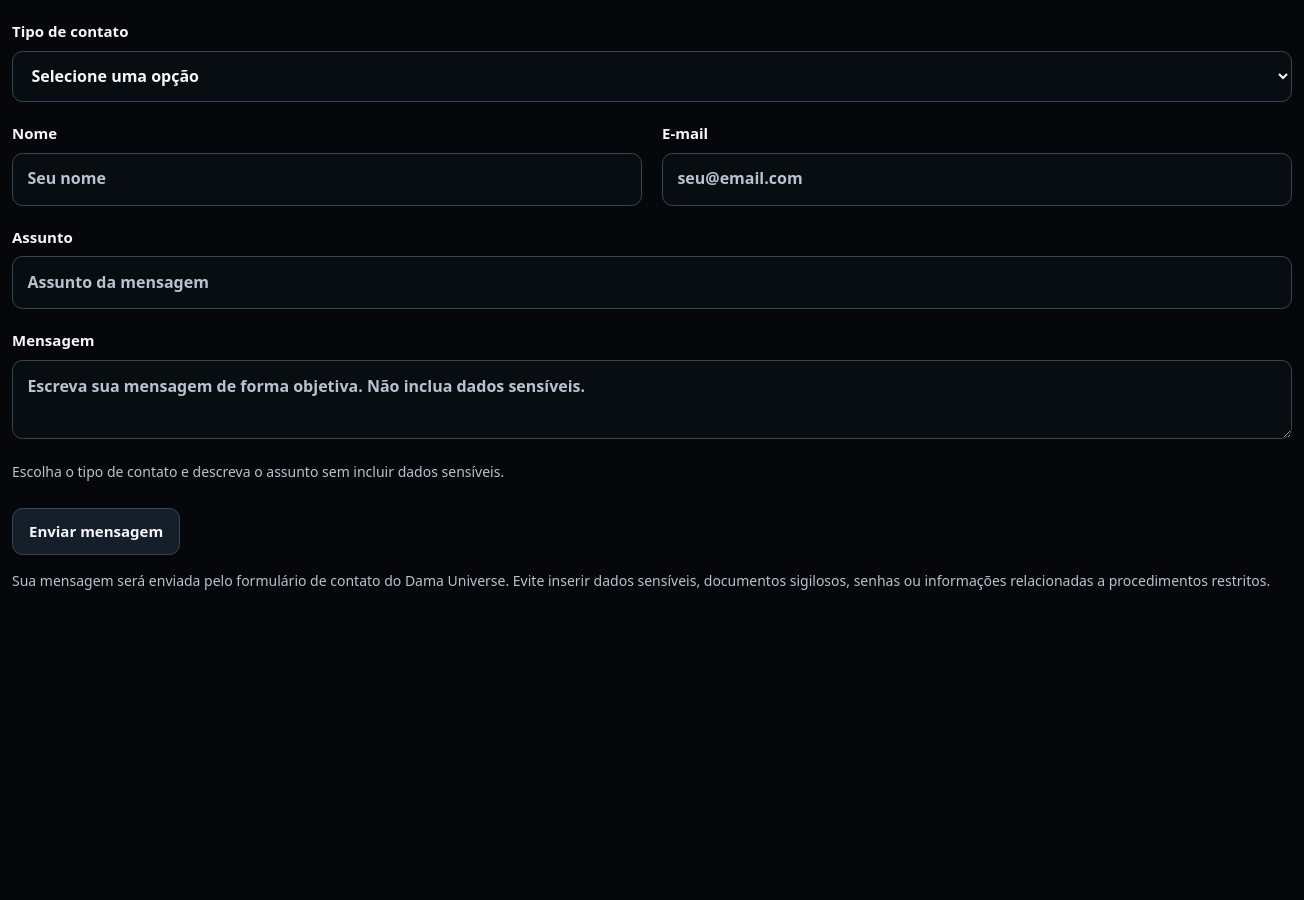
Test case: acessibilidade e falhas do formulário › trata rede, permite nova tentativa e anuncia envio
The width and height of the screenshot is (1304, 900).
Type "Pessoa de teste" into the field labelled "Nome" at [327, 179], box [12, 153, 642, 206]
Type "teste@example.com" into the field labelled "E-mail" at [977, 179], box [662, 153, 1292, 206]
Type "Assunto teste" into the field labelled "Assunto" at [652, 283], box [12, 256, 1292, 310]
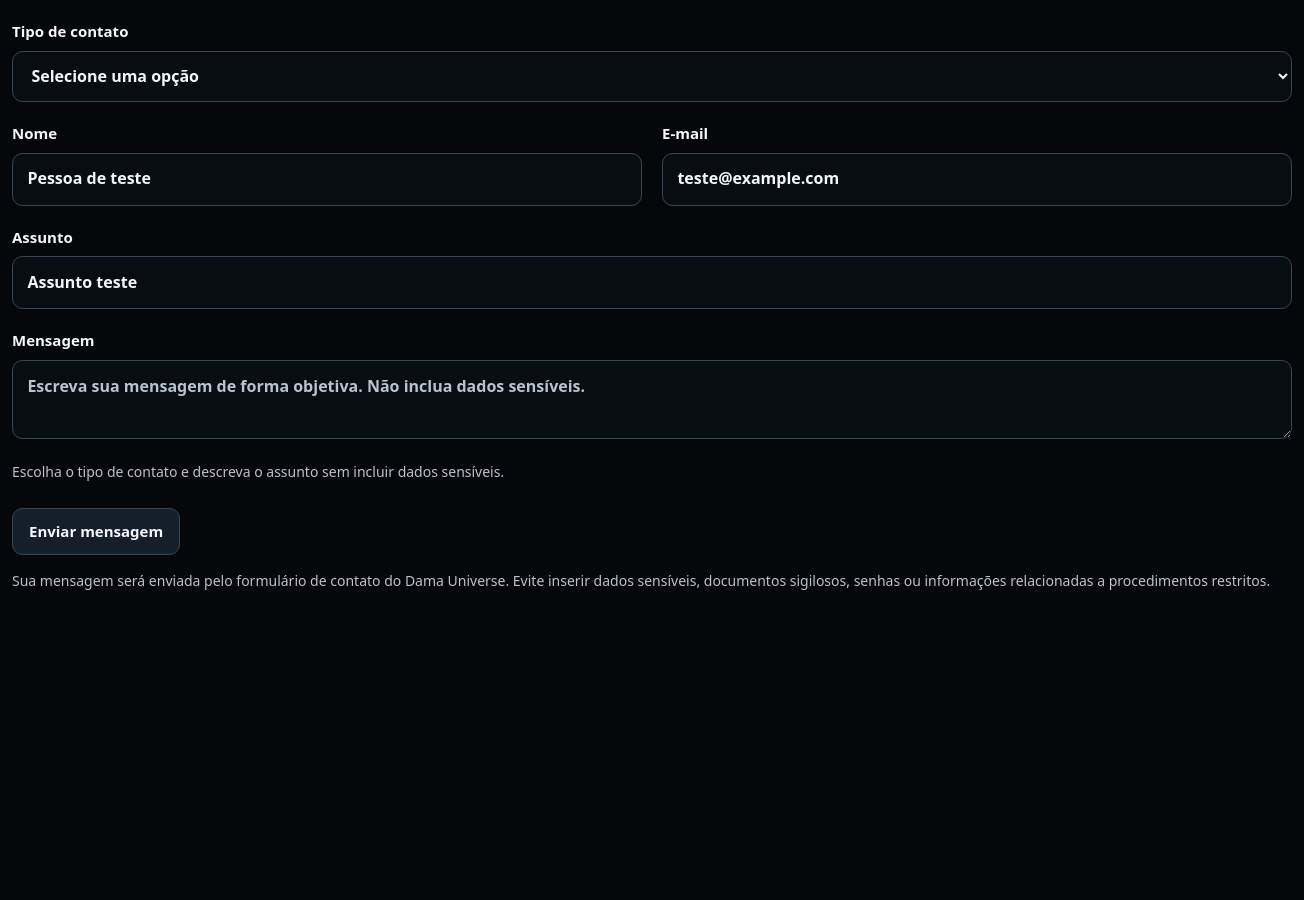
Select "Dúvida" in the dropdown labelled "Tipo de contato" at [652, 76], box [12, 50, 1292, 102]
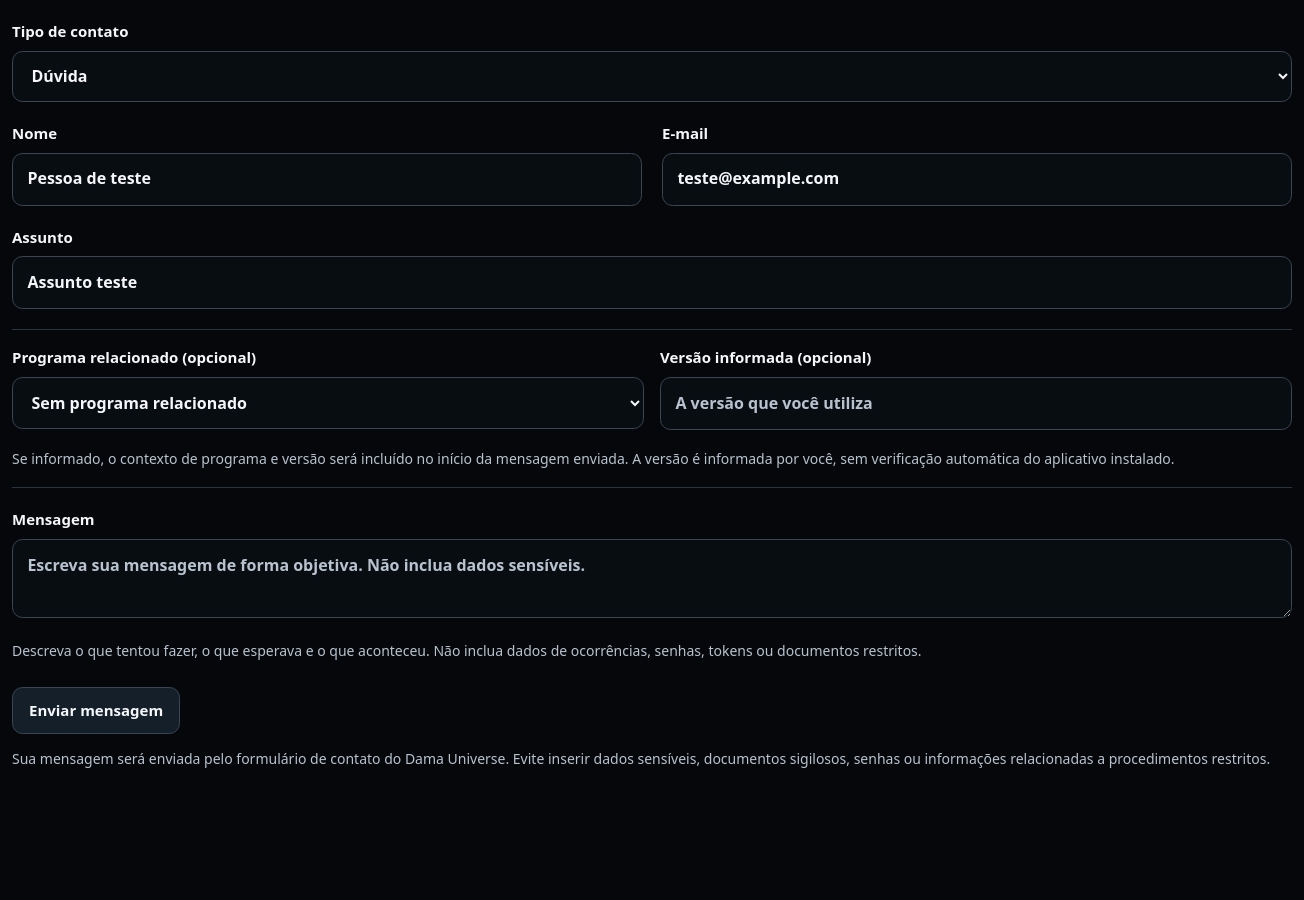
Replace the text in the text box labelled "Mensagem" with "Mensagem fictícia para teste local." at [652, 578], box [12, 539, 1292, 618]
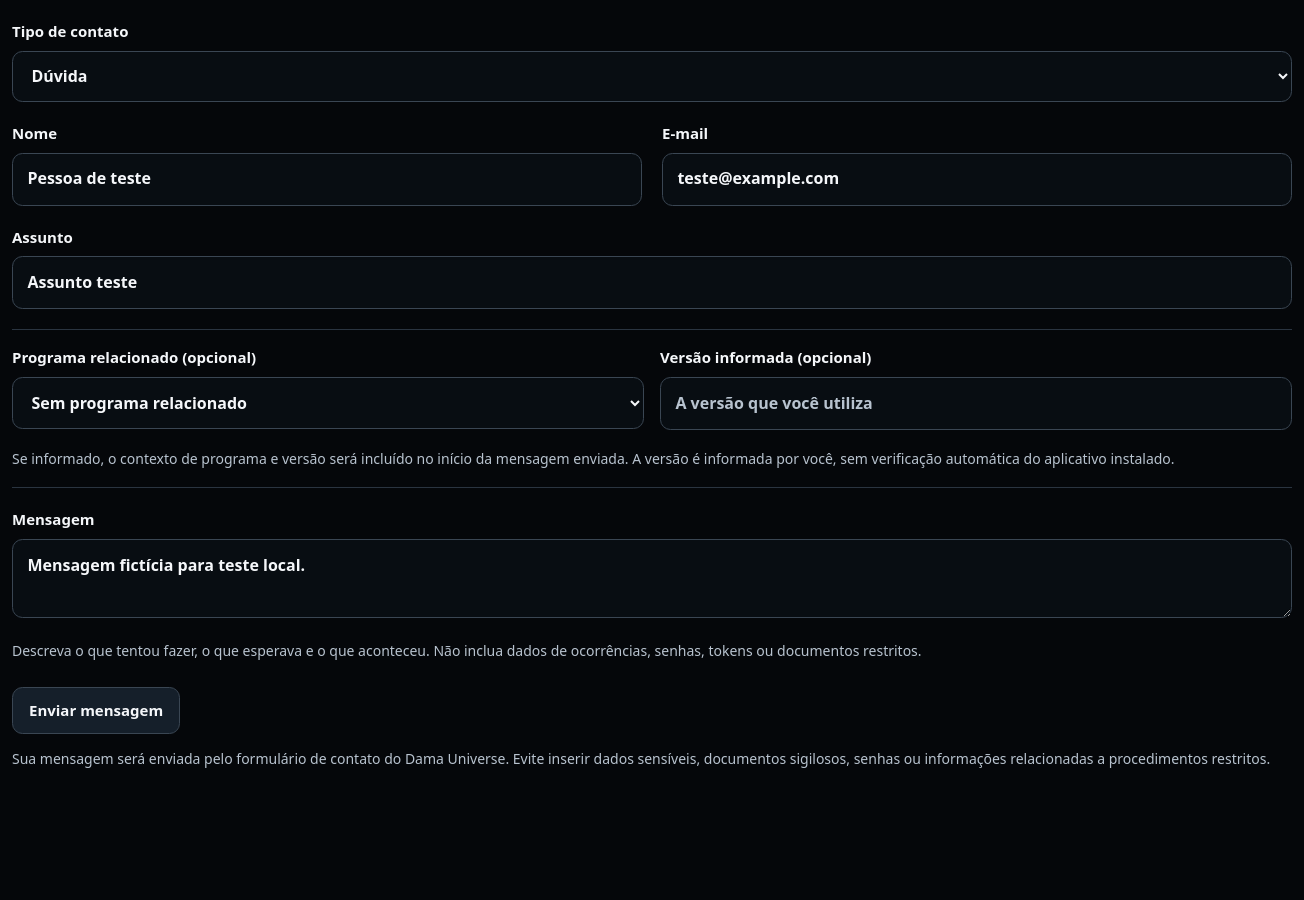
Click the button "Enviar mensagem" at [96, 710], box [12, 687, 180, 734]
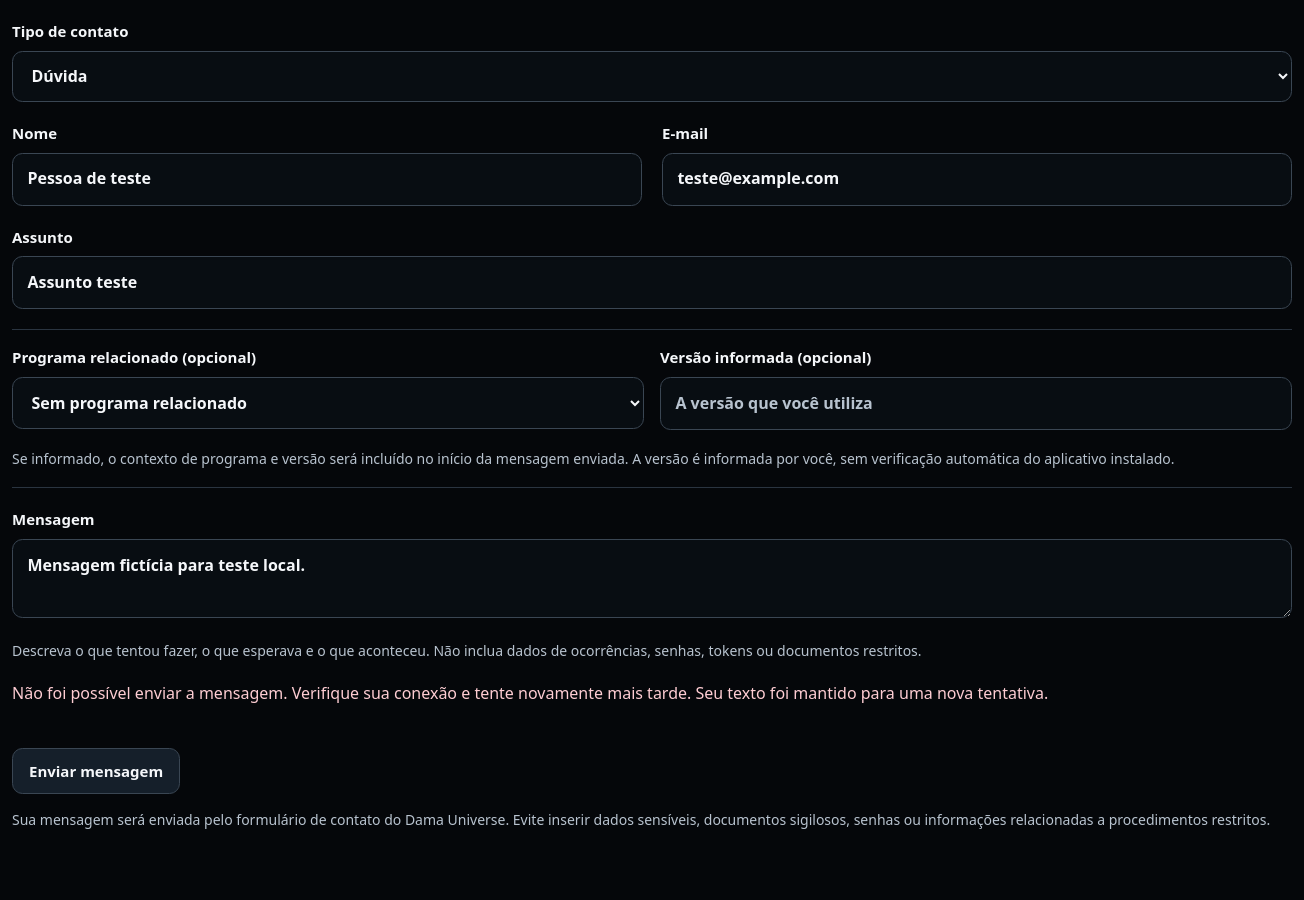
Check: the message shows "Seu texto foi mantido", box [12, 682, 1048, 704]
Click the button "Enviar mensagem" at [96, 771], box [12, 748, 180, 794]
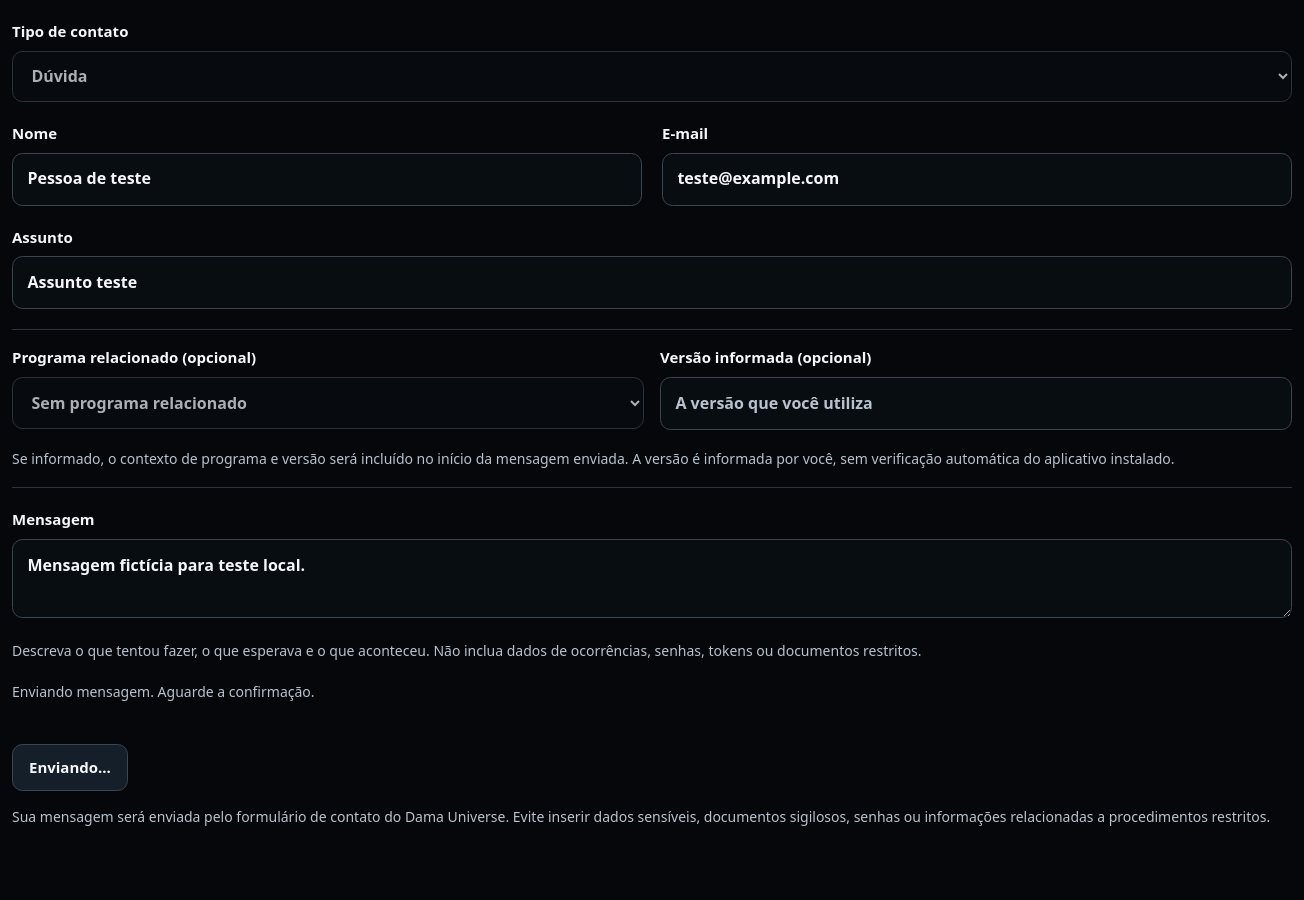
Check: the button "Enviando..." is disabled, box [12, 744, 128, 791]
Check: the message shows "Aguarde a confirmação", box [12, 682, 315, 701]
Submit the form named "Enviando..."
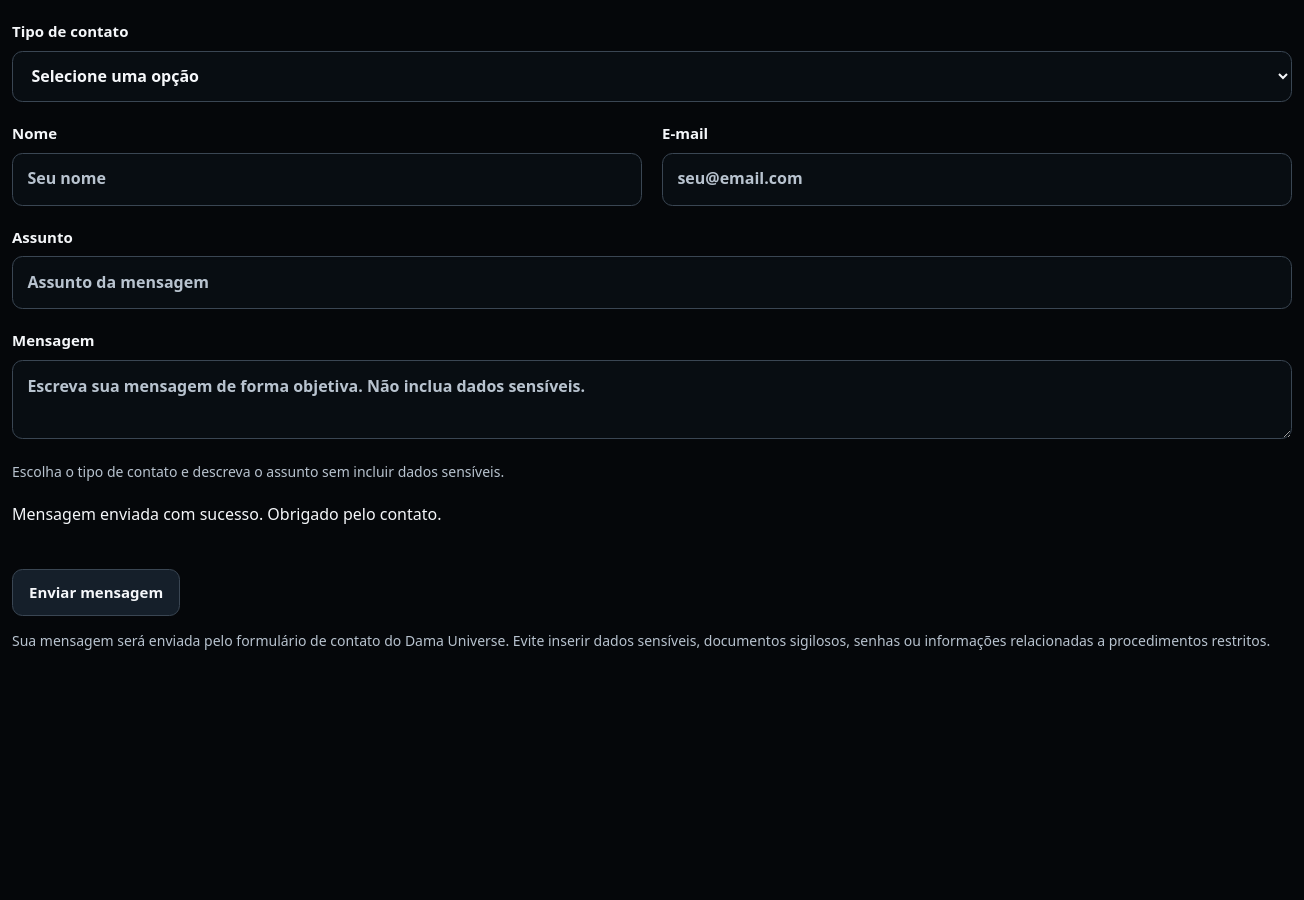
Check: the message shows "Mensagem enviada com sucesso", box [12, 503, 442, 525]
